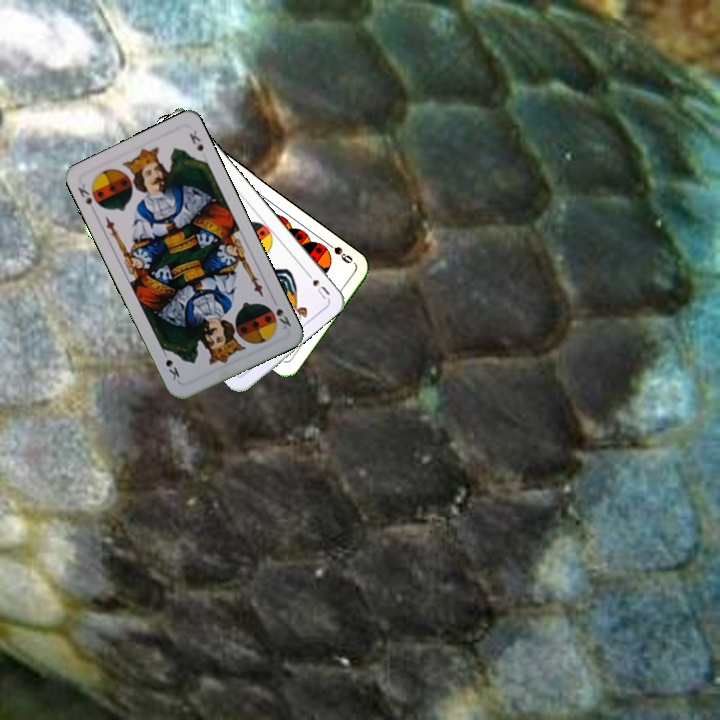S9: (321, 237, 356, 266)
SK: (264, 300, 294, 332), (73, 180, 99, 215)
SU: (301, 267, 332, 302)
